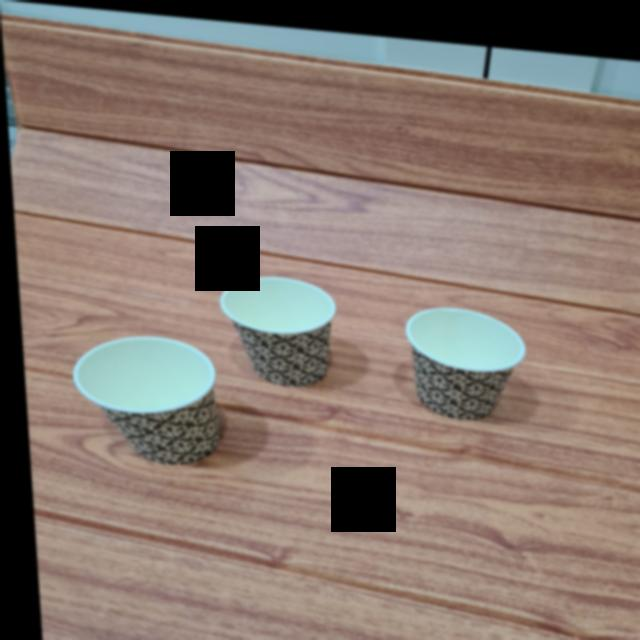cups: (63, 325, 218, 465), (391, 294, 527, 417), (228, 270, 345, 385)
